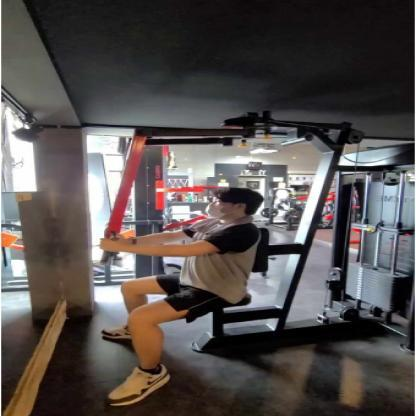chest fly machine: (48, 82, 416, 416)
